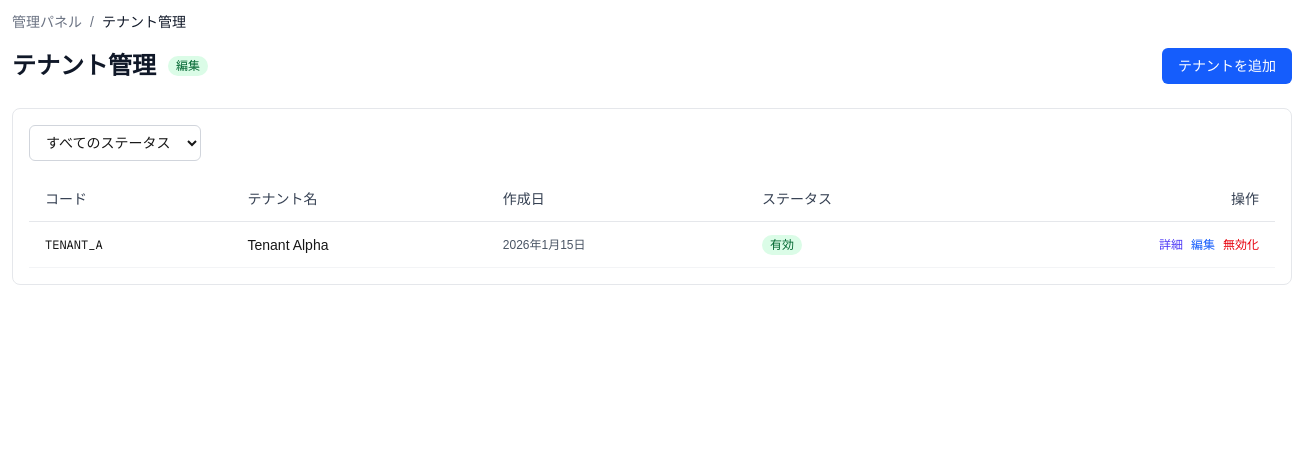
Test: AdminTenantsPage › shows back button and navigates back to list
Expected: the text "Tenant Alpha" is shown, left=232, top=222, right=487, bottom=268
# Select tenant
Click the button "詳細" at (1171, 244), box left=1159, top=236, right=1183, bottom=252
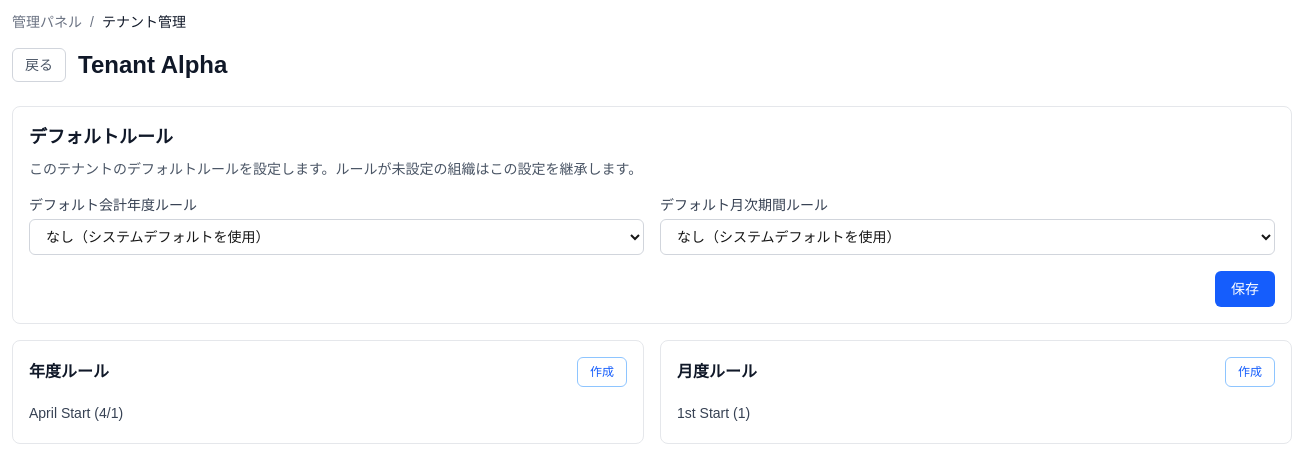
Now the heading "デフォルトルール" is shown, box left=29, top=127, right=173, bottom=147
# Click back
Click the button "戻る" at (39, 65), box left=12, top=48, right=66, bottom=82
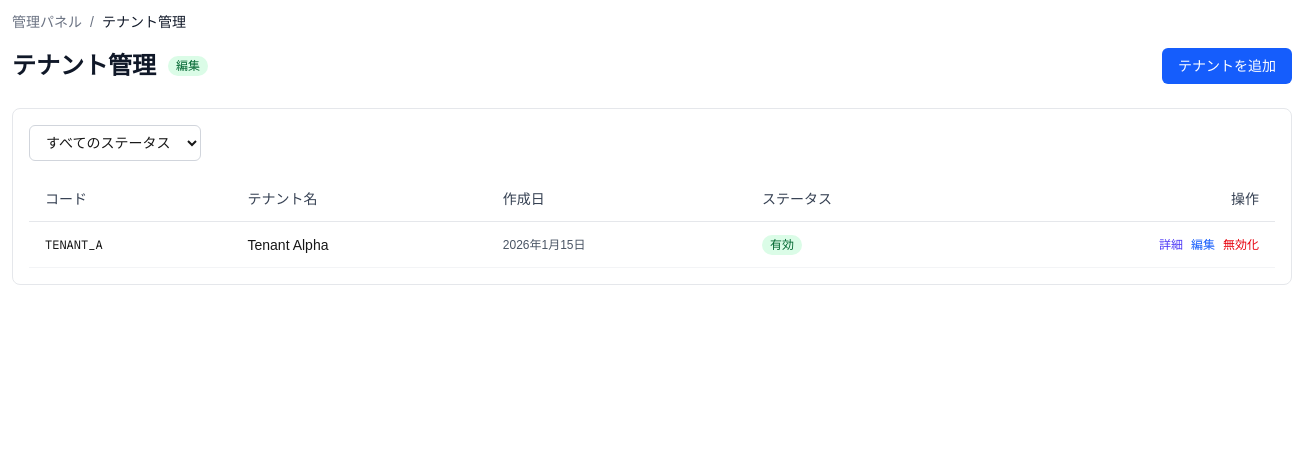
Now the heading reads "テナント管理", box left=12, top=52, right=156, bottom=79
Now the button "テナントを追加" is shown, box left=1162, top=48, right=1292, bottom=84
